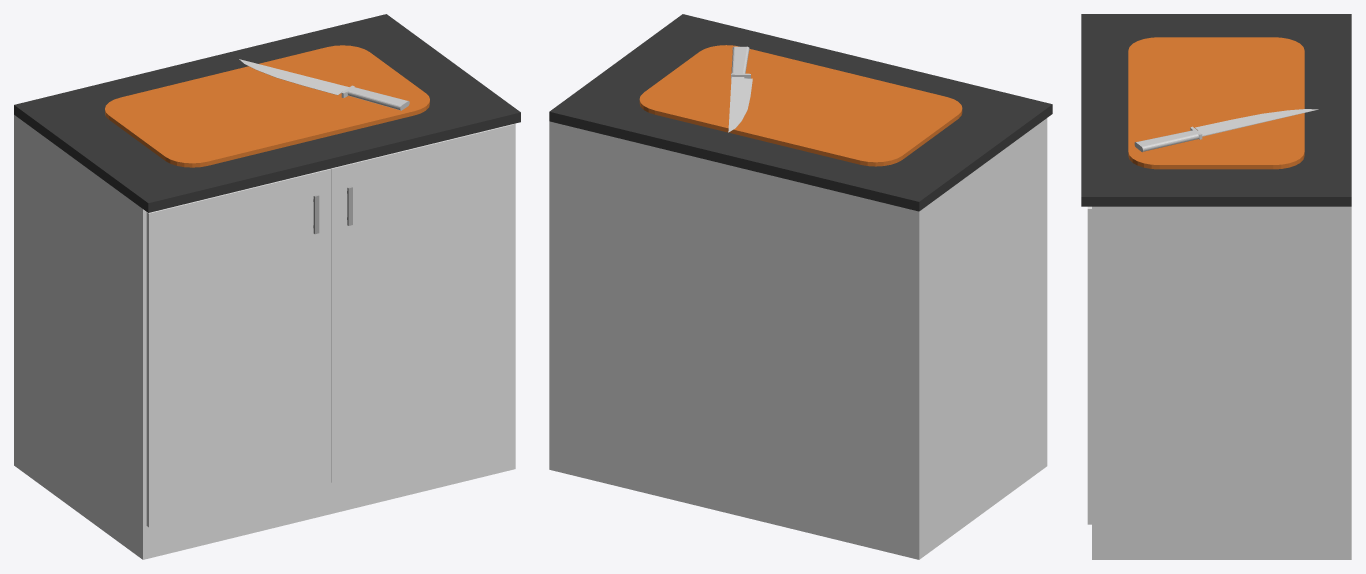
The model's file is Slicer.fbx.
The picture shows the model from 3 angles, left to right: view 1: azimuth 30°, elevation 25°; view 2: azimuth 150°, elevation 25°; view 3: azimuth 270°, elevation 25°; orthographic projection.
Parts seen in each view (by area): view 1: Slicer; view 2: Slicer; view 3: Slicer.
Part boxes in pixels (bbox=[...]): Slicer: bbox=[14, 14, 520, 559]; Slicer: bbox=[549, 14, 1052, 559]; Slicer: bbox=[1081, 14, 1351, 559].
Bounding box in the file's own units: 100 × 94.92 × 62.5.
